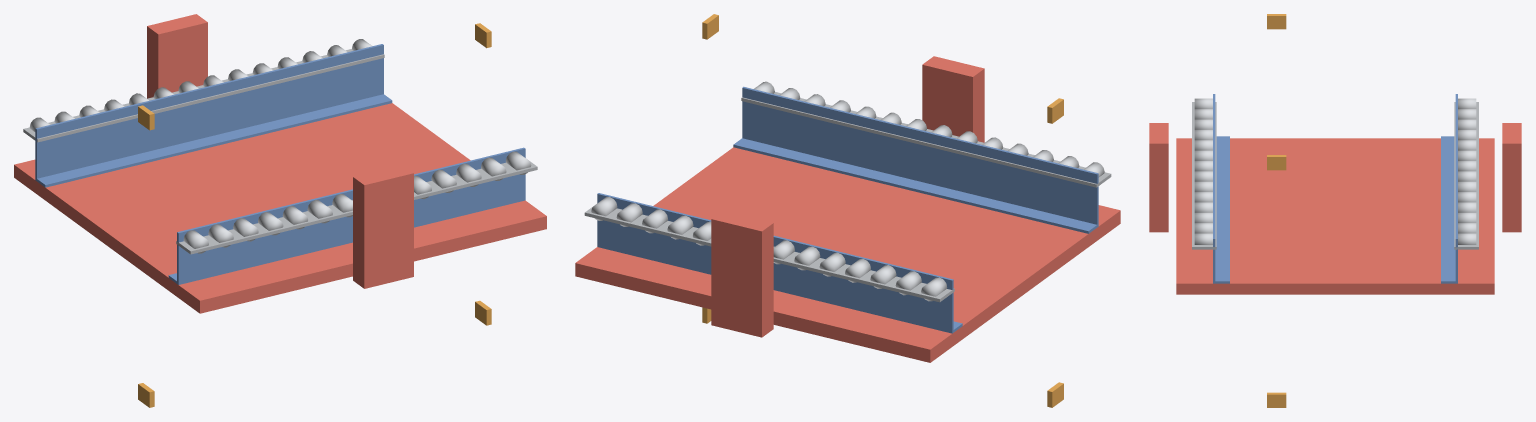
The model's file is LiftCarriage.fbx.
3 views of the same model, side by side, from view 1: azimuth 30°, elevation 25°; view 2: azimuth 150°, elevation 25°; view 3: azimuth 270°, elevation 25° (orthographic). The views are drawn at different scales.
Visible parts, largest first — view 1: Platform, LC_Web_R, LC_Web_L, GuideShoe_0, GuideShoe_1, LC_Track_R, LC_RollerFrame_L, LC_RollerFrame_R; view 2: Platform, LC_Web_L, LC_Web_R, GuideShoe_1, GuideShoe_0, LC_Track_L, LC_RollerFrame_R, LC_RollerFrame_L; view 3: Platform, GuideShoe_0, GuideShoe_1, LC_Track_L, LC_Track_R, LC_RollerFrame_L, LC_RollerFrame_R, LC_Web_R, LC_Web_L.
Part boxes in pixels (x1,y1,x2,y2): Platform: (14,103,546,313); LC_Web_R: (35,44,383,180); LC_Web_L: (177,147,525,284); GuideShoe_0: (353,165,413,288); GuideShoe_1: (147,14,207,98); LC_Track_R: (36,94,392,187); LC_RollerFrame_L: (176,159,537,254); LC_RollerFrame_R: (23,44,384,142); Platform: (575,147,1120,362); LC_Web_L: (742,86,1098,226); LC_Web_R: (597,193,953,333); GuideShoe_1: (711,210,773,337); GuideShoe_0: (922,56,984,142); LC_Track_L: (733,138,1097,233); LC_RollerFrame_R: (584,204,954,302); LC_RollerFrame_L: (741,87,1111,187); Platform: (1176,138,1494,294); GuideShoe_0: (1149,123,1168,232); GuideShoe_1: (1502,123,1521,232); LC_Track_L: (1214,136,1229,283); LC_Track_R: (1441,136,1456,283); LC_RollerFrame_L: (1192,102,1216,249); LC_RollerFrame_R: (1454,102,1478,249); LC_Web_R: (1455,94,1457,283); LC_Web_L: (1213,94,1215,283).
Bounding box in the file's own units: 1.4 × 1.13 × 1.52.
